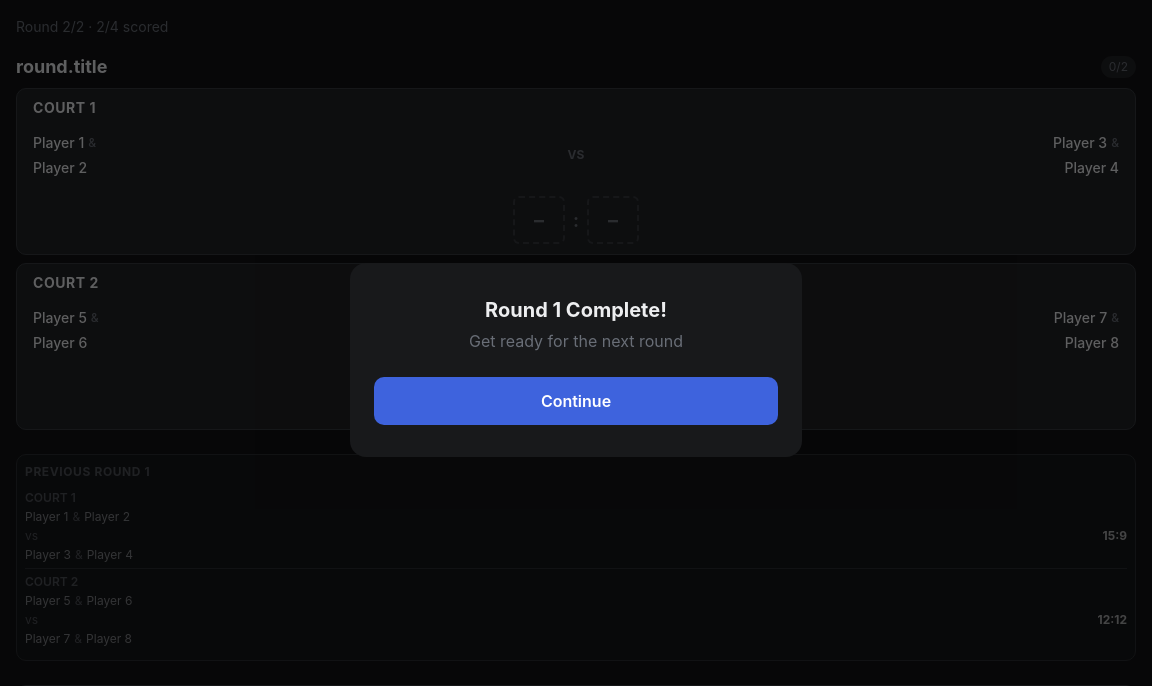
PlayScreen › round complete interstitial › dismisses interstitial on Continue click
Expected: the text "Round 1 Complete!" is shown, [485,298,667,322]
Click the button "Continue".
click(576, 401)  # box [374,377,778,425]
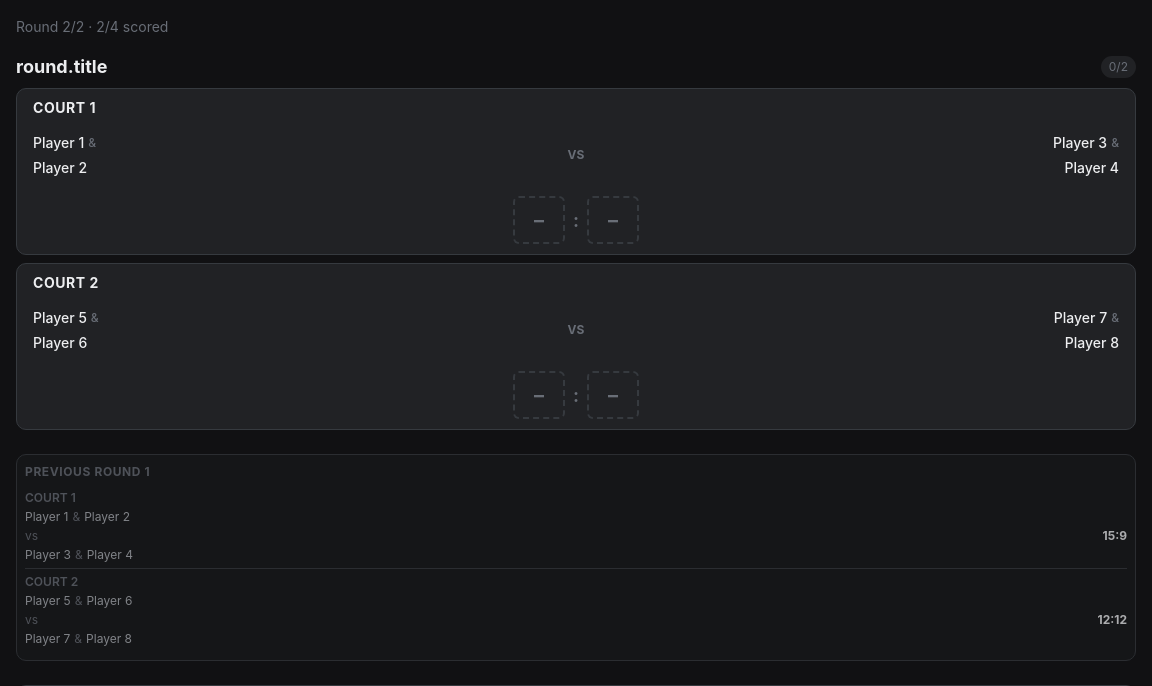
Result: the text "Round 1 Complete!" is gone
